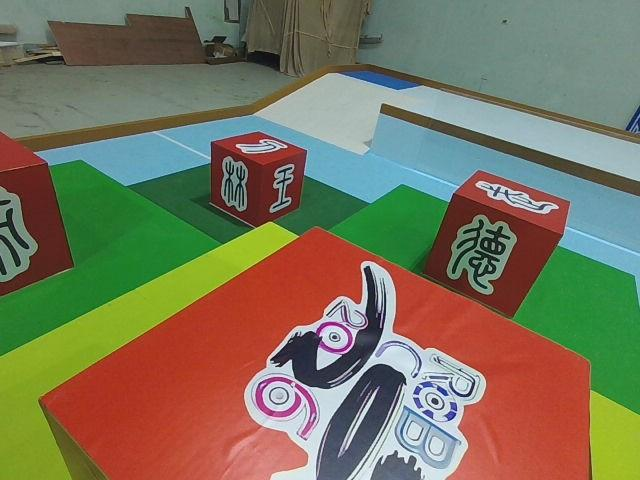R1: (35, 225, 593, 480)
R2 Fake: (420, 166, 574, 321), (208, 128, 310, 228)
